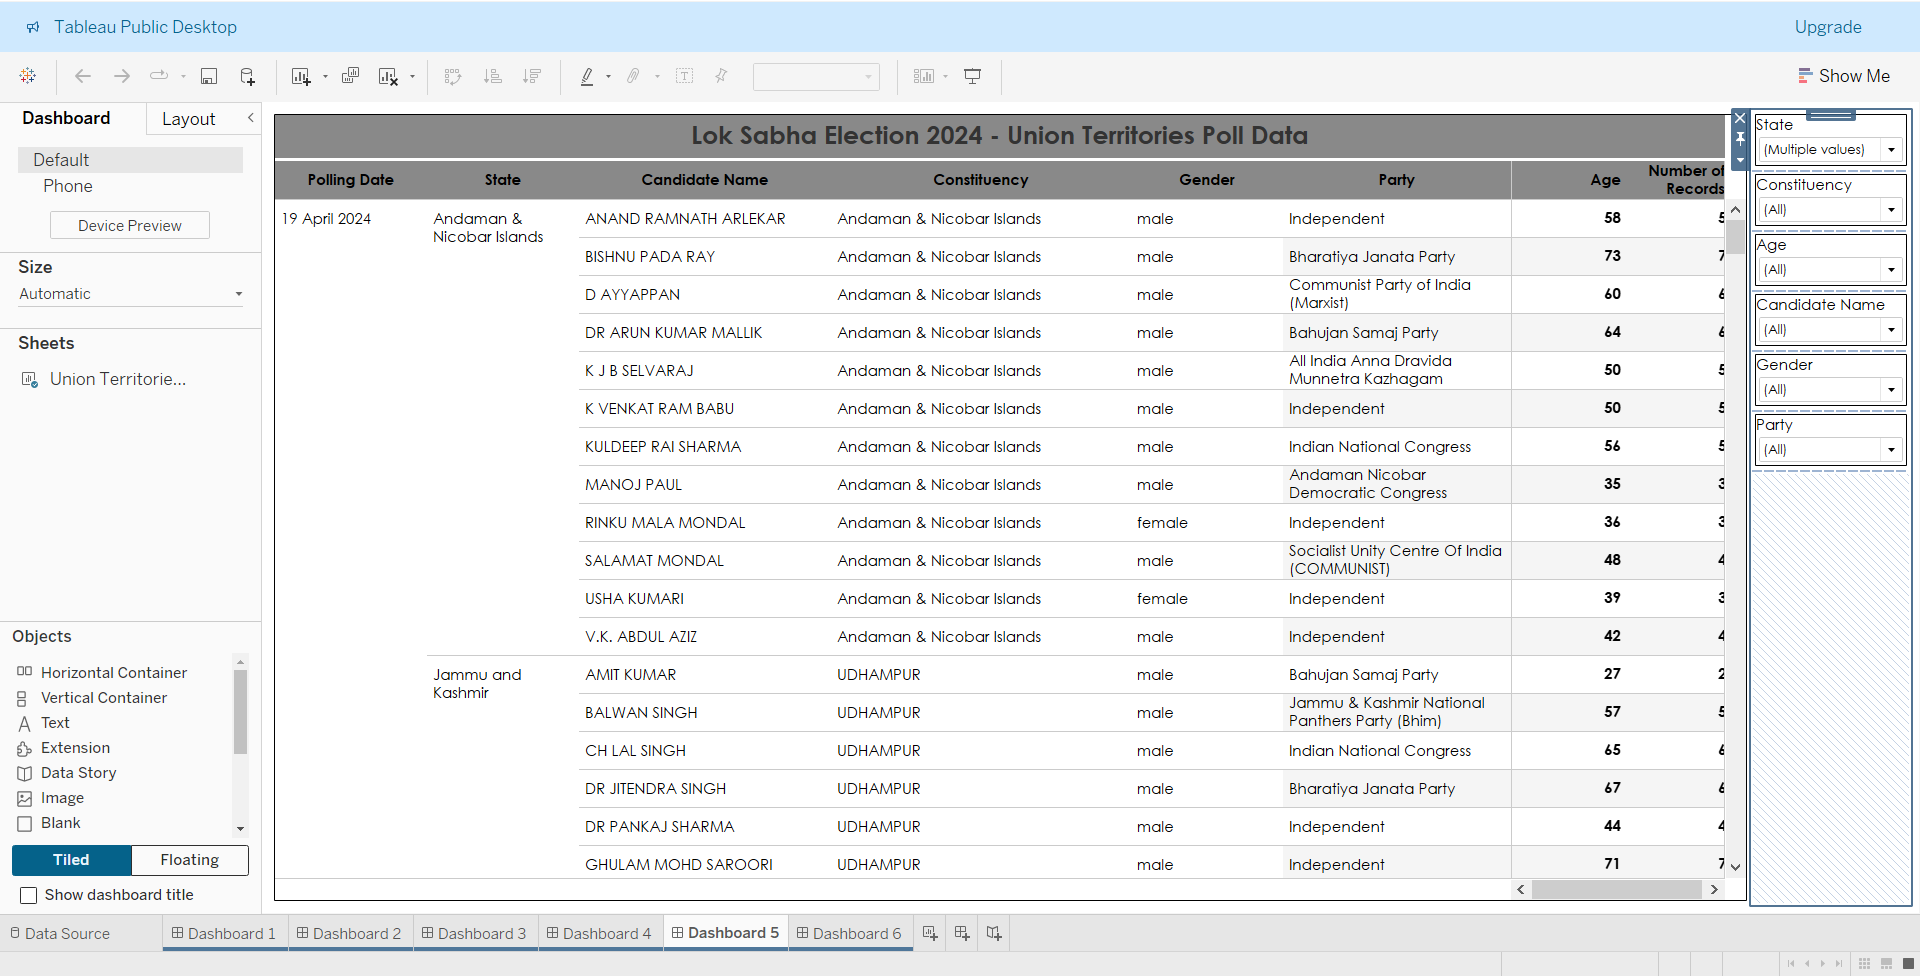

What the dashboard file says about the page in this screenshot:
{"tool":"tableau","page":{"name":"Dashboard 5","canvas":[1000,1000],"units":"permille","ordinal":4},"visuals":[{"type":"worksheet","title":" Union Territories Poll Data","mark":"Automatic","rows":["Polling Date","State","Candidate Name","Constituency","Gender","Party"],"box":[5,9.9,890.1,980.3]},{"type":"filter","title":" Union Territories Poll Data","param":"[federated.1t4udp21838psq18mbp35021r6ej].[none:State:nk]","box":[895.1,9.9,99.9,74]},{"type":"filter","title":" Union Territories Poll Data","param":"[federated.1t4udp21838psq18mbp35021r6ej].[none:Constituency:nk]","box":[895.1,83.8,99.9,74]},{"type":"filter","title":" Union Territories Poll Data","param":"[federated.1t4udp21838psq18mbp35021r6ej].[none:Age:ok]","box":[895.1,157.8,99.9,74]},{"type":"filter","title":" Union Territories Poll Data","param":"[federated.1t4udp21838psq18mbp35021r6ej].[none:Candidate Name:nk]","box":[895.1,231.8,99.9,74]},{"type":"filter","title":" Union Territories Poll Data","param":"[federated.1t4udp21838psq18mbp35021r6ej].[none:Gender:nk]","box":[895.1,305.8,99.9,74]},{"type":"filter","title":" Union Territories Poll Data","param":"[federated.1t4udp21838psq18mbp35021r6ej].[none:Party:nk]","box":[895.1,379.8,99.9,74]}]}

Visuals, with their boxes on the dashboard's canvas, which has no fixed pixel size, in thousandths of its width and height (x1, y1, x2, y2). These are canvas units, not pixel positions in the 1920x976 screenshot, which may show the page scaled, cropped or inside an application window:
" Union Territories Poll Data" worksheet: [5, 10, 895, 990]
" Union Territories Poll Data" filter: [895, 10, 995, 84]
" Union Territories Poll Data" filter: [895, 84, 995, 158]
" Union Territories Poll Data" filter: [895, 158, 995, 232]
" Union Territories Poll Data" filter: [895, 232, 995, 306]
" Union Territories Poll Data" filter: [895, 306, 995, 380]
" Union Territories Poll Data" filter: [895, 380, 995, 454]
